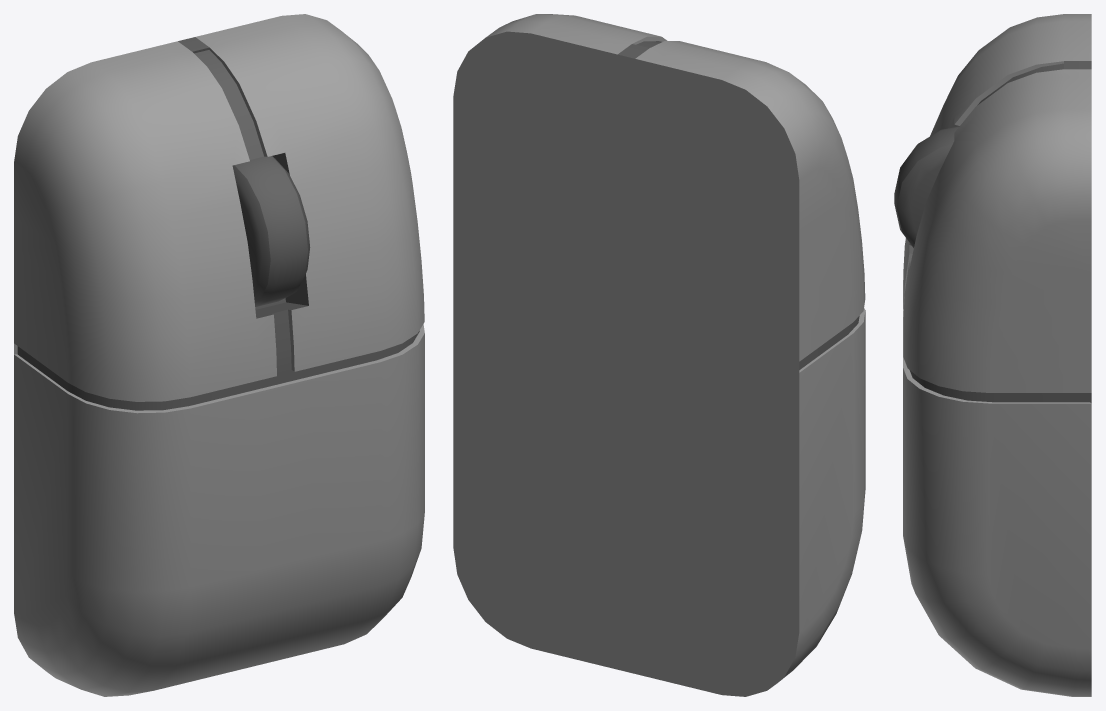
Rendered from computer_mouse.gltf.
The picture shows the model from 3 angles, left to right: view 1: azimuth 30°, elevation 25°; view 2: azimuth 150°, elevation 25°; view 3: azimuth 270°, elevation 25°; orthographic projection. The views are drawn at different scales.
Visible parts, largest first — view 1: Cube.928; view 2: Cube.928; view 3: Cube.928.
Part boxes in pixels (bbox=[...]): Cube.928: bbox=[14, 14, 424, 696]; Cube.928: bbox=[453, 14, 865, 696]; Cube.928: bbox=[894, 14, 1091, 696].
Size of the model in its own units: 1.3 by 2.21 by 0.6804.
Materials: 1 (1 with a texture image).
